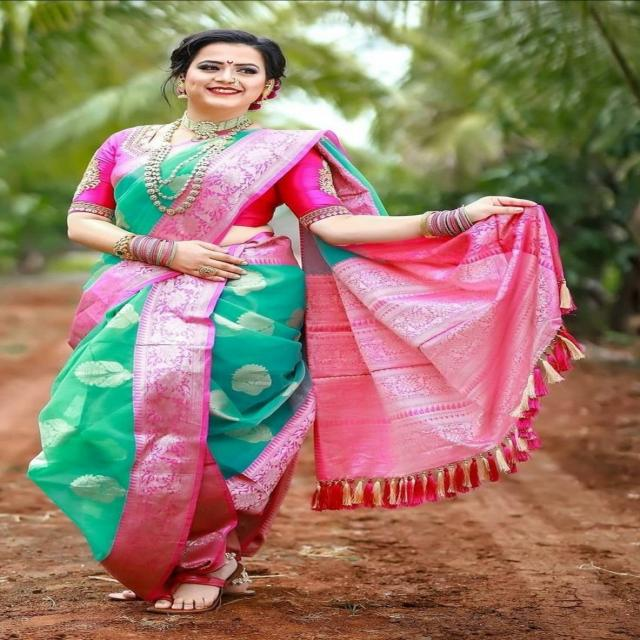male-dress: (66, 127, 545, 576)
